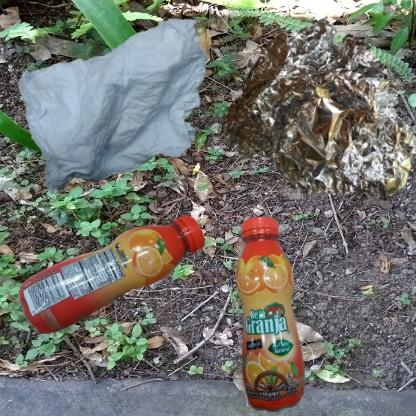aluminio: (213, 10, 416, 219)
botella: (10, 213, 229, 345), (213, 213, 340, 416)
papel: (10, 10, 249, 210)
